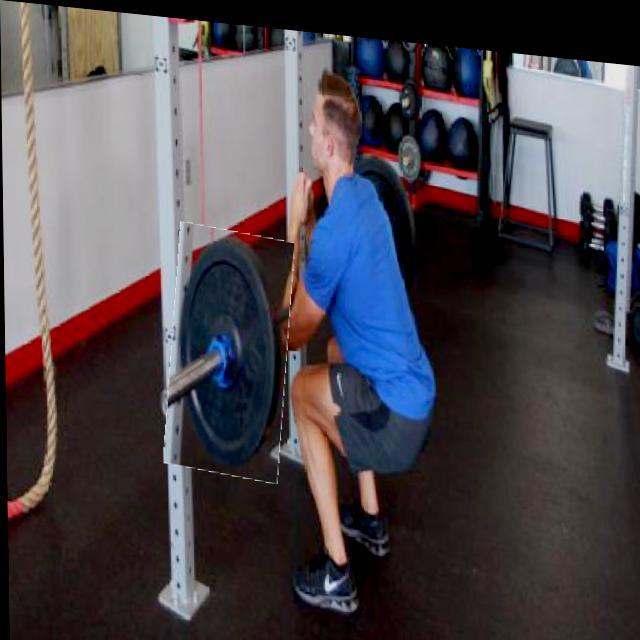barbell: (166, 220, 293, 479)
